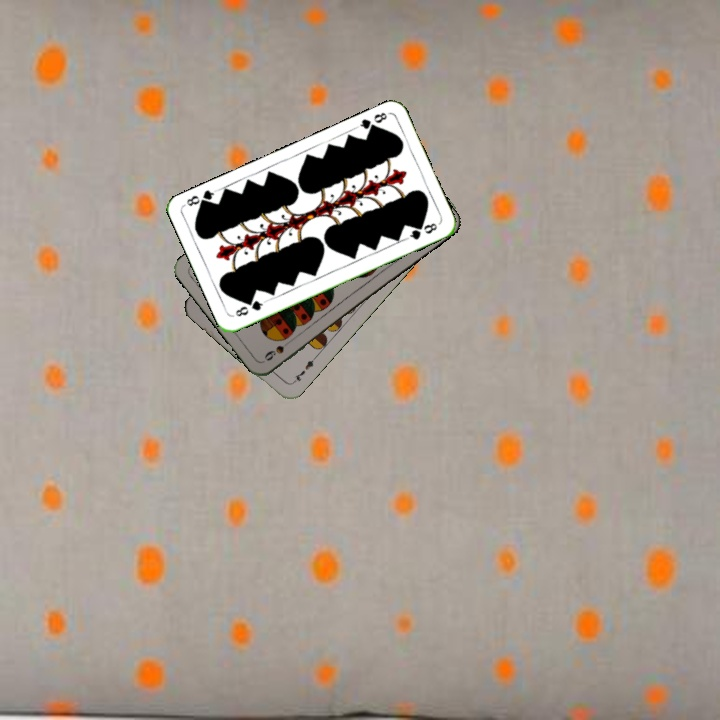E7: (288, 353, 319, 387)
G8: (352, 108, 391, 135), (231, 296, 268, 319)
S9: (260, 335, 296, 363)
